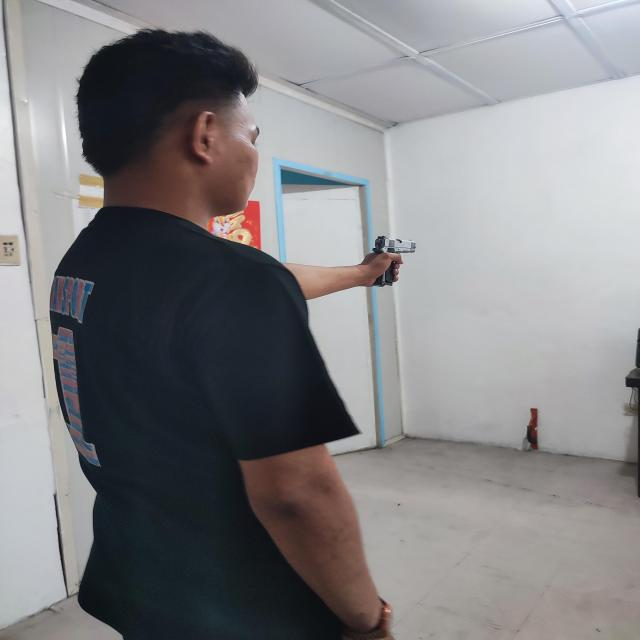pistol: (372, 236, 416, 287)
